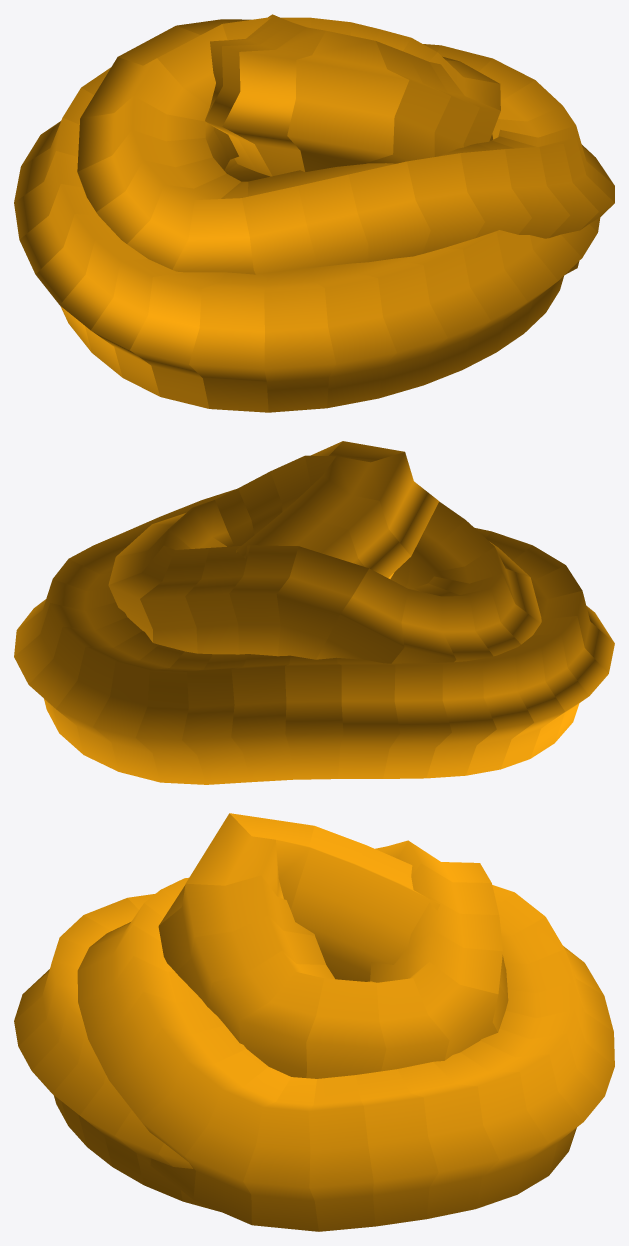
File: new cat poo.fbx
3 renders of one model, top to bottom at view 1: azimuth 30°, elevation 25°; view 2: azimuth 150°, elevation 25°; view 3: azimuth 270°, elevation 25°, orthographic. The views are drawn at different scales.
Parts seen in each view (by area): view 1: Circle; view 2: Circle; view 3: Circle.
Boxes of the visible parts, x1=… form: Circle: x1=14, y1=14, x2=614, y2=412; Circle: x1=14, y1=441, x2=614, y2=784; Circle: x1=14, y1=813, x2=614, y2=1231.
Size of the model in its own units: 79.6 by 38.85 by 75.88.
